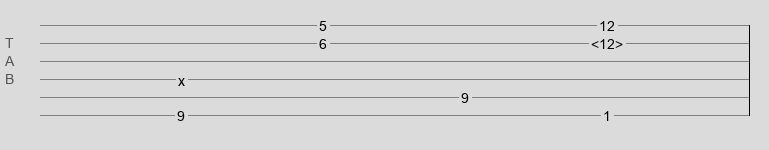1: (603, 108, 611, 118)
12: (599, 18, 615, 28)
5: (319, 18, 327, 28)
6: (319, 36, 327, 46)
9: (177, 108, 185, 118), (461, 90, 469, 100)
harmonic: (591, 36, 623, 46)
x: (178, 73, 185, 81)
